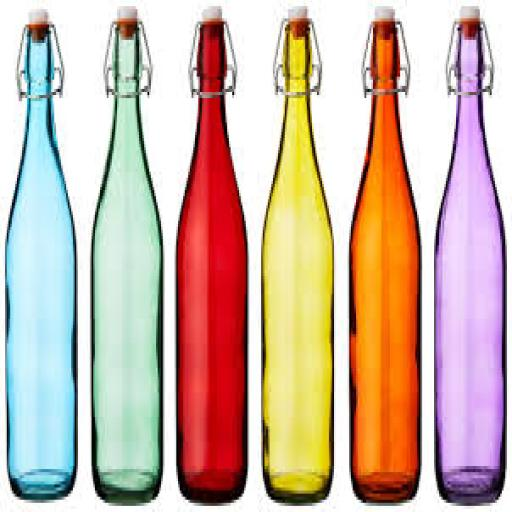blue-bottle: (5, 9, 75, 494)
